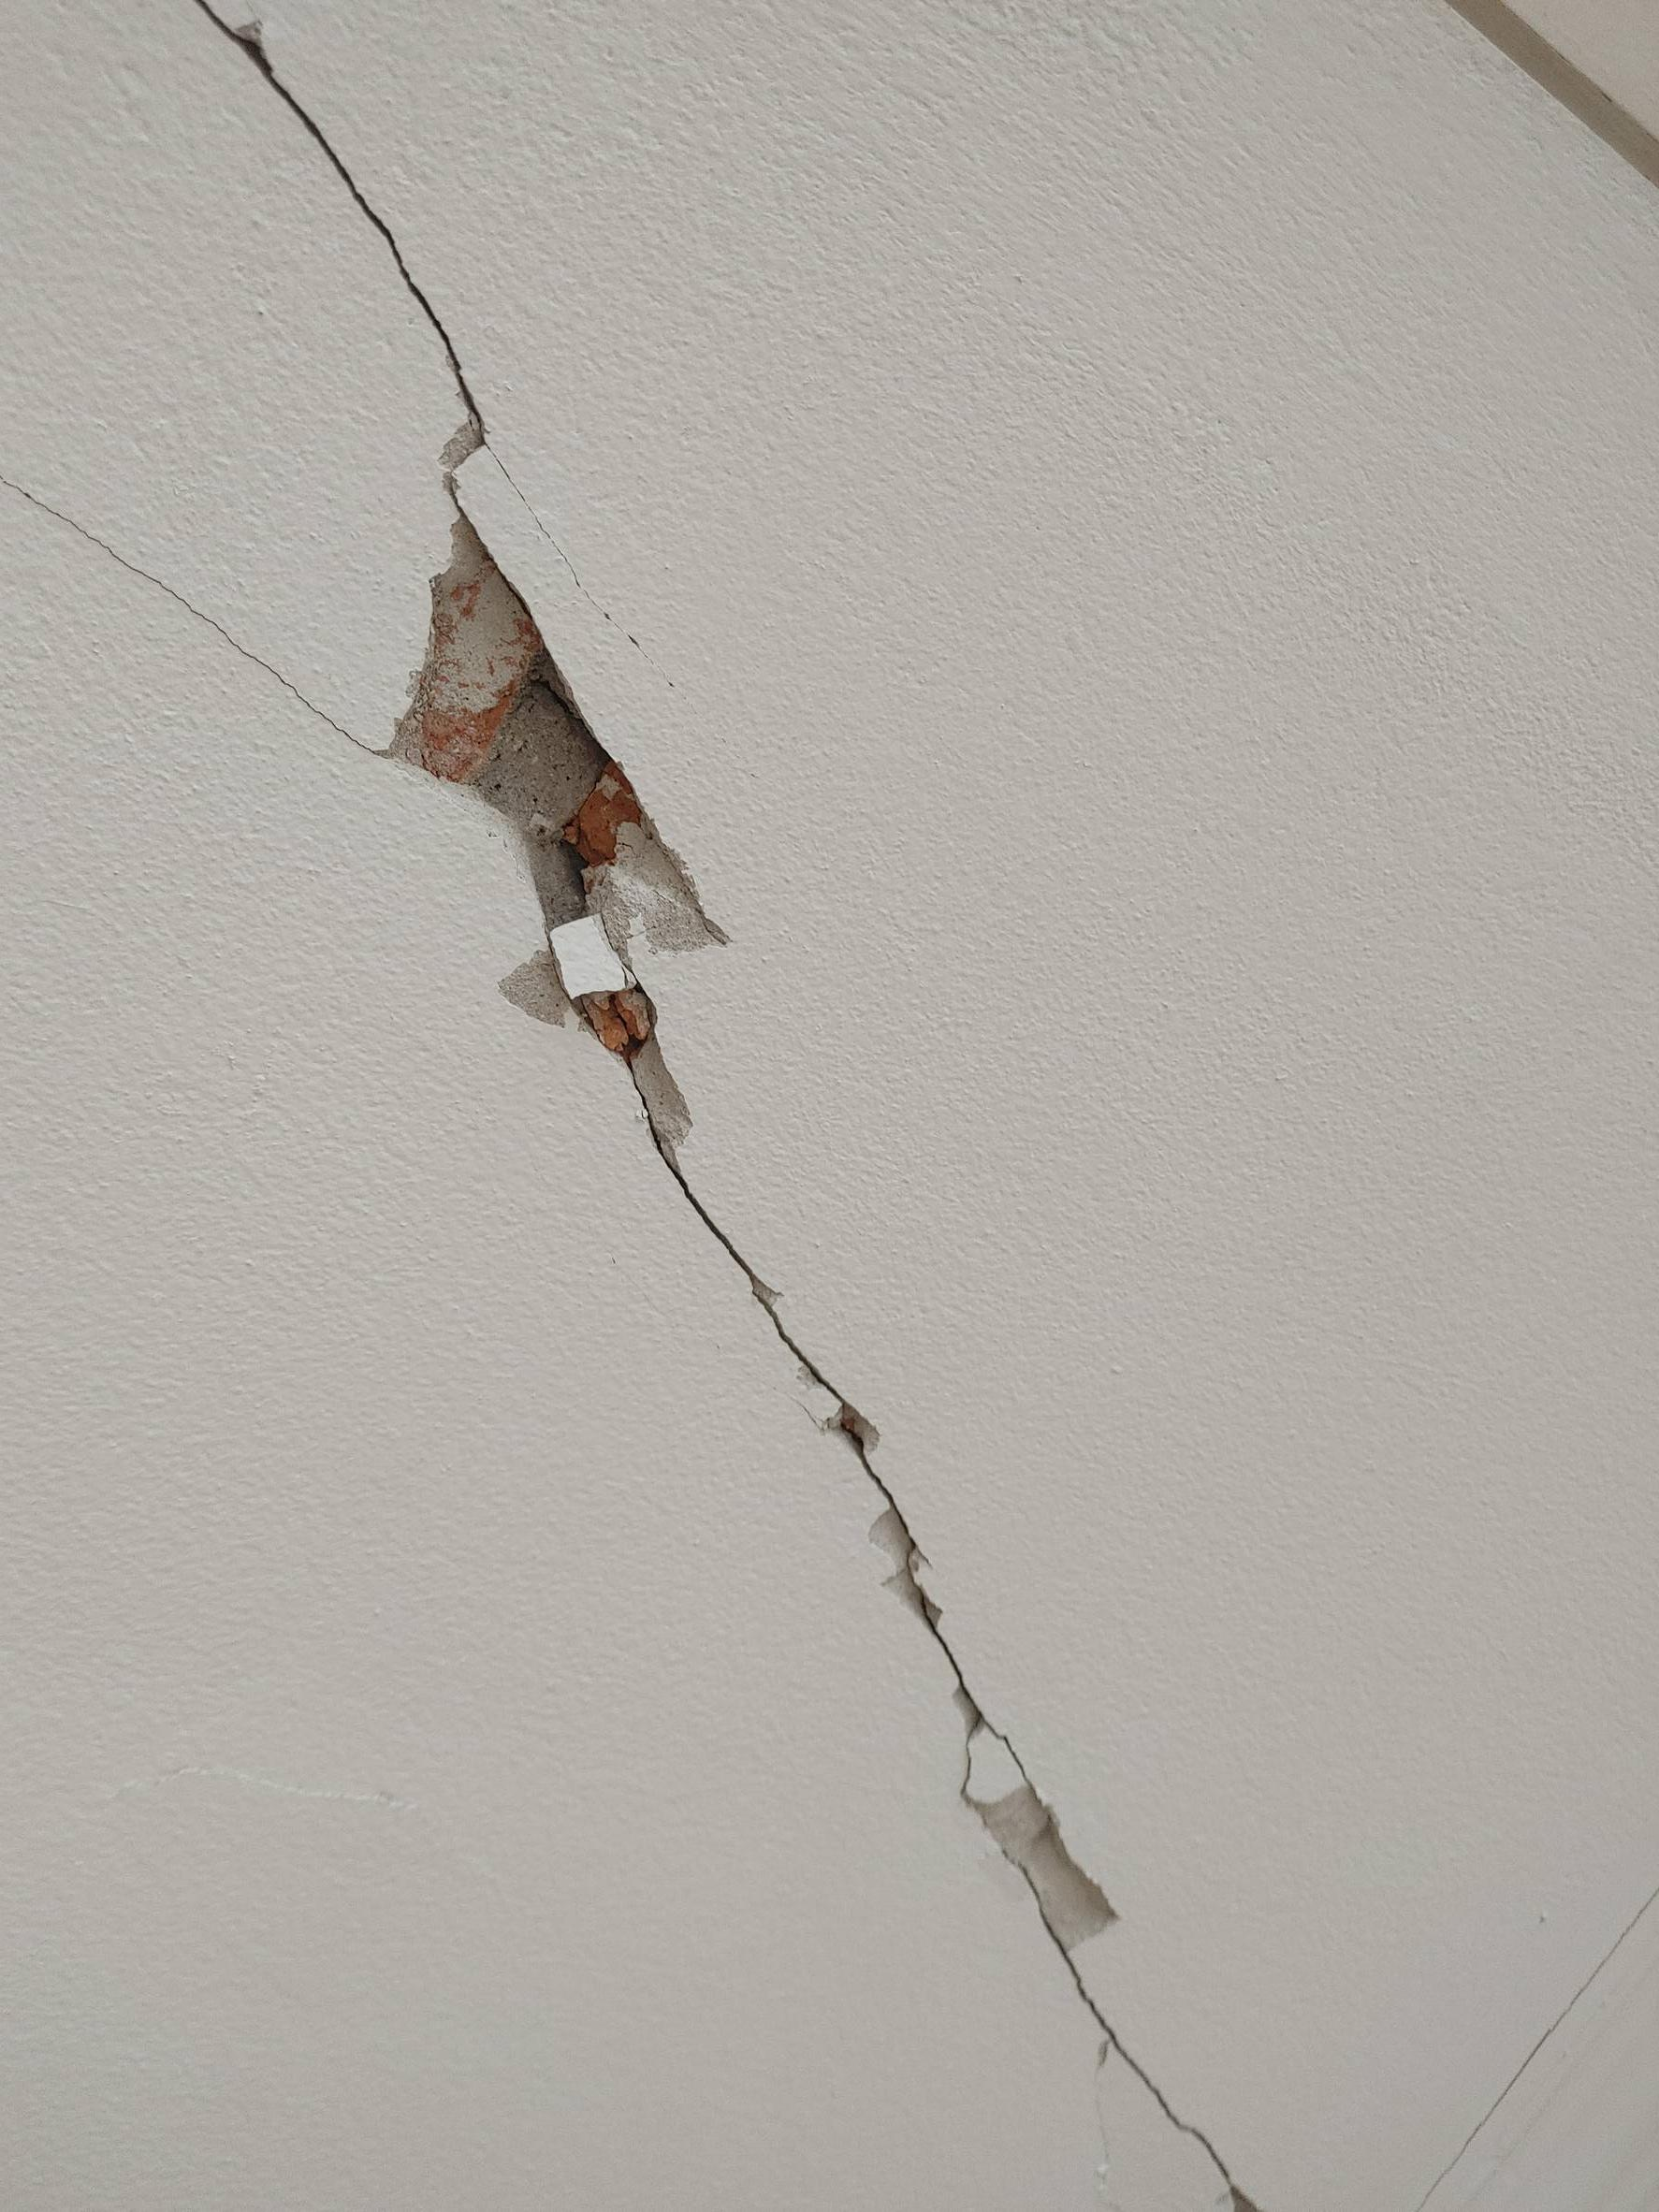Medium: (295, 275, 1246, 1914)
